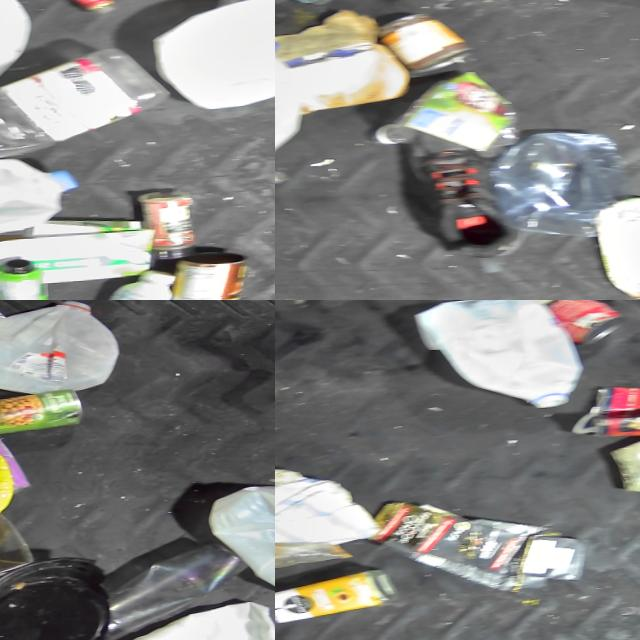can: (365, 11, 468, 82), (124, 186, 201, 265), (530, 300, 624, 350), (161, 252, 248, 300), (0, 394, 83, 435)
milk_jug: (407, 300, 580, 415), (140, 0, 275, 114), (0, 300, 124, 403), (275, 459, 380, 550), (210, 491, 275, 610), (0, 151, 77, 251), (596, 198, 640, 300), (275, 30, 301, 165)
plastic_bottle: (68, 275, 170, 300)
